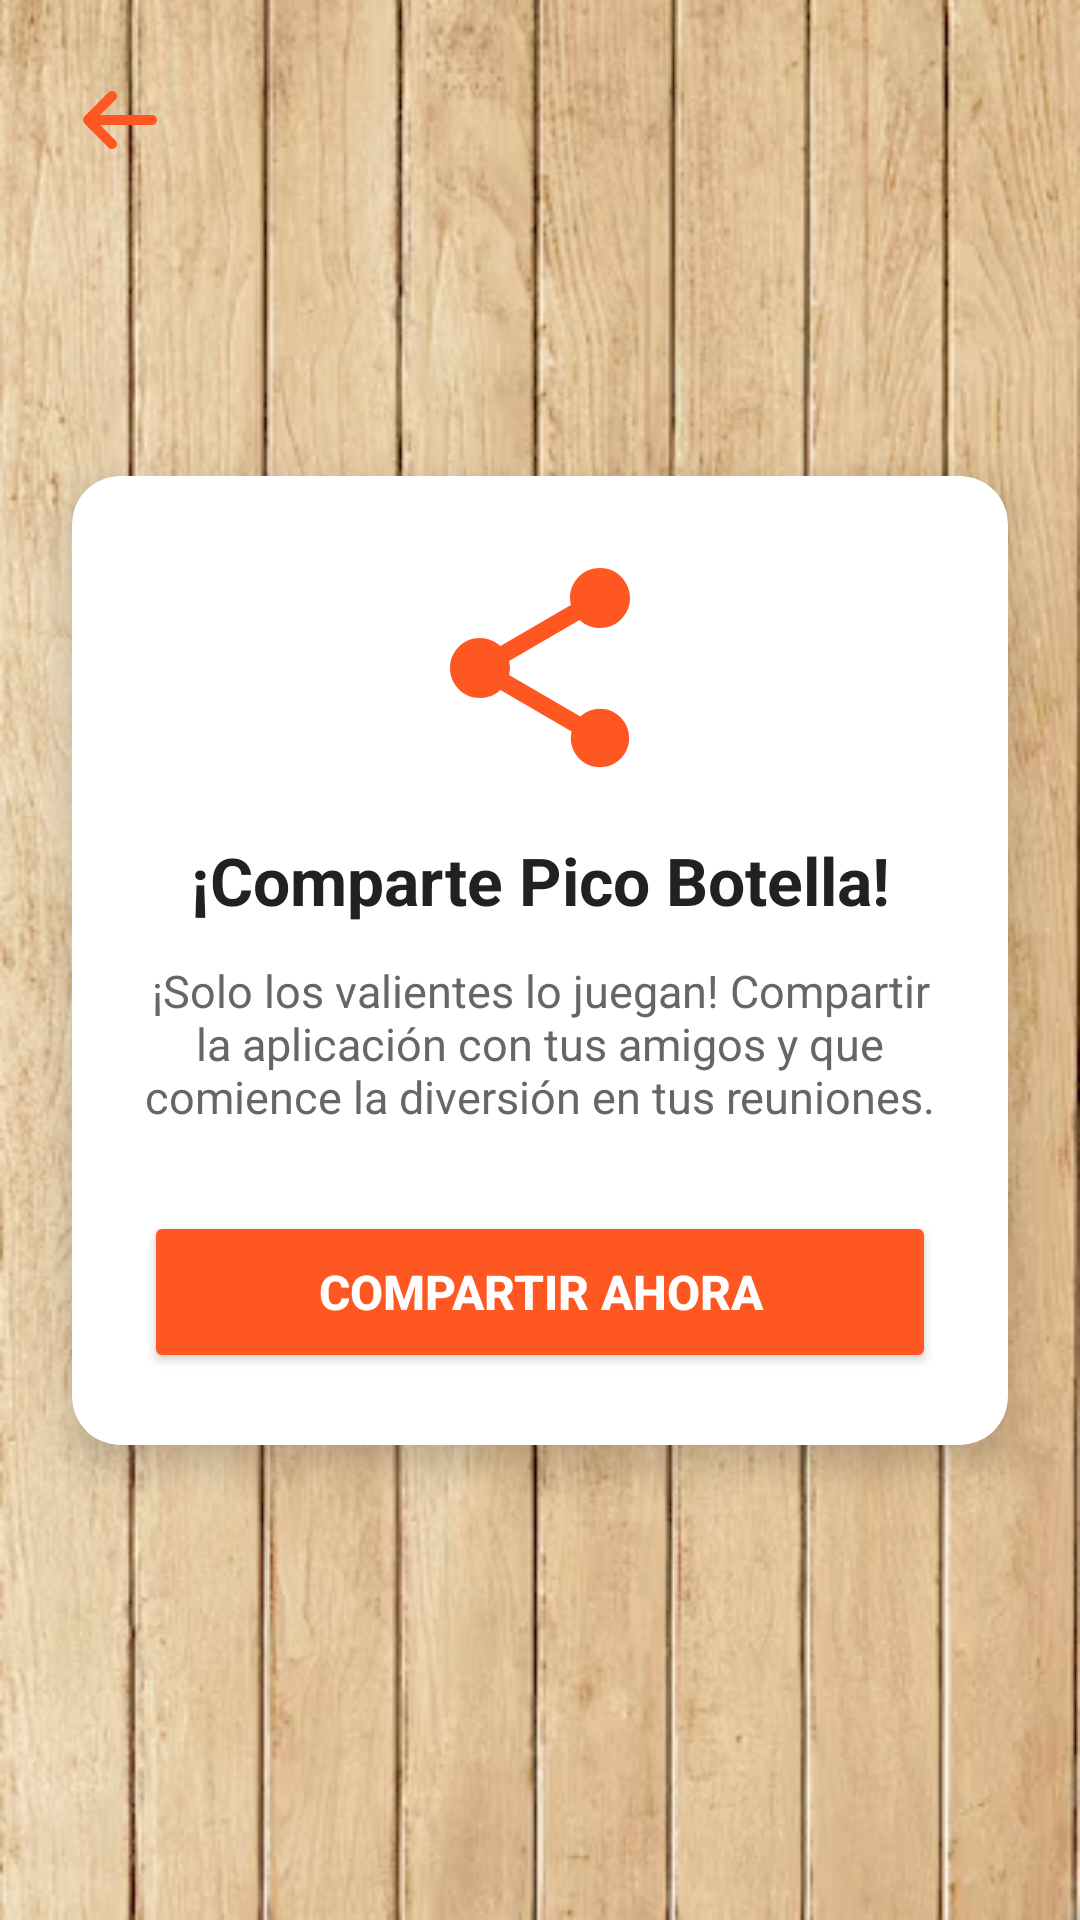

Named icons in this screenshot (1080*1920) and their bounding boxes, (x1, y1, x2, y2):
share: (450, 568, 630, 768)
Volver: (48, 48, 190, 192)
